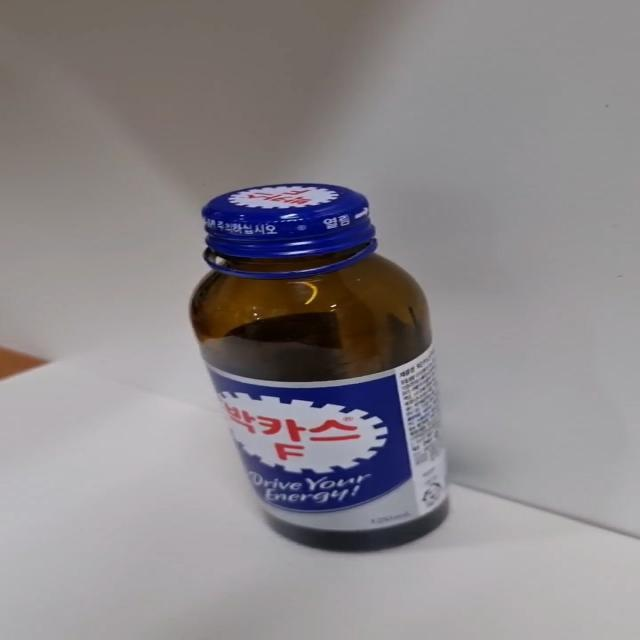Glass: (188, 183, 450, 554)
